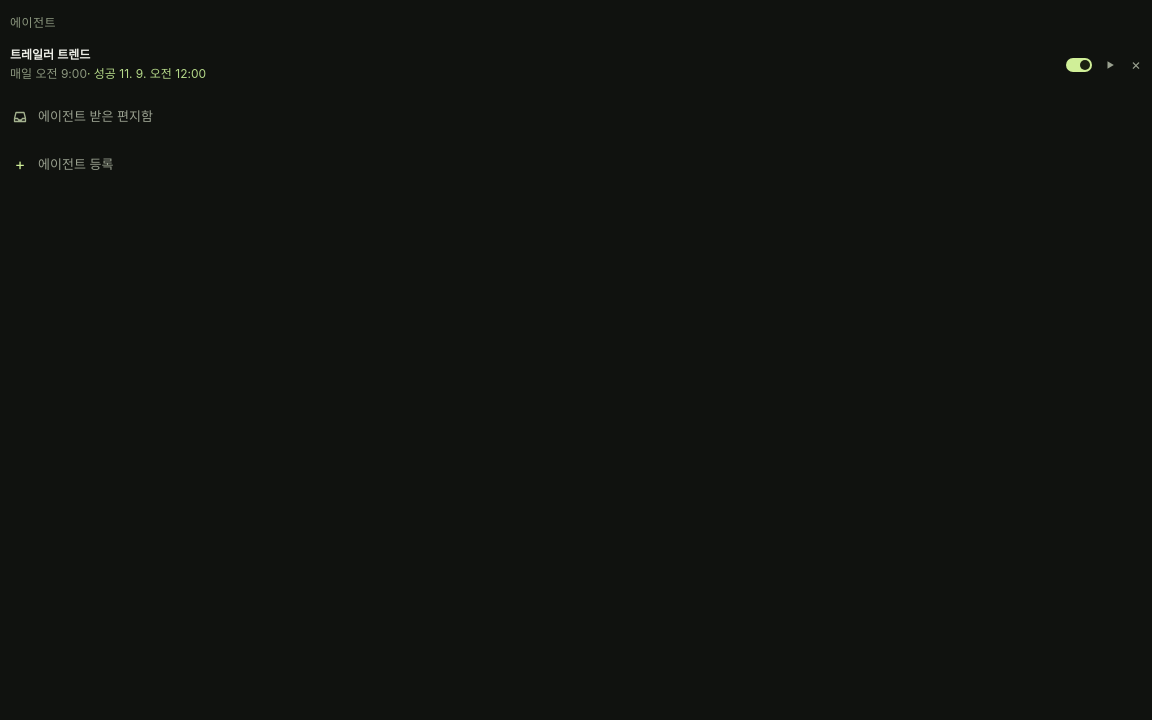
Test: the Agent part of the sidebar › deletes a custom agent after a confirm
Click the button "×".
click(1136, 64)  # box [1124,52,1148,76]
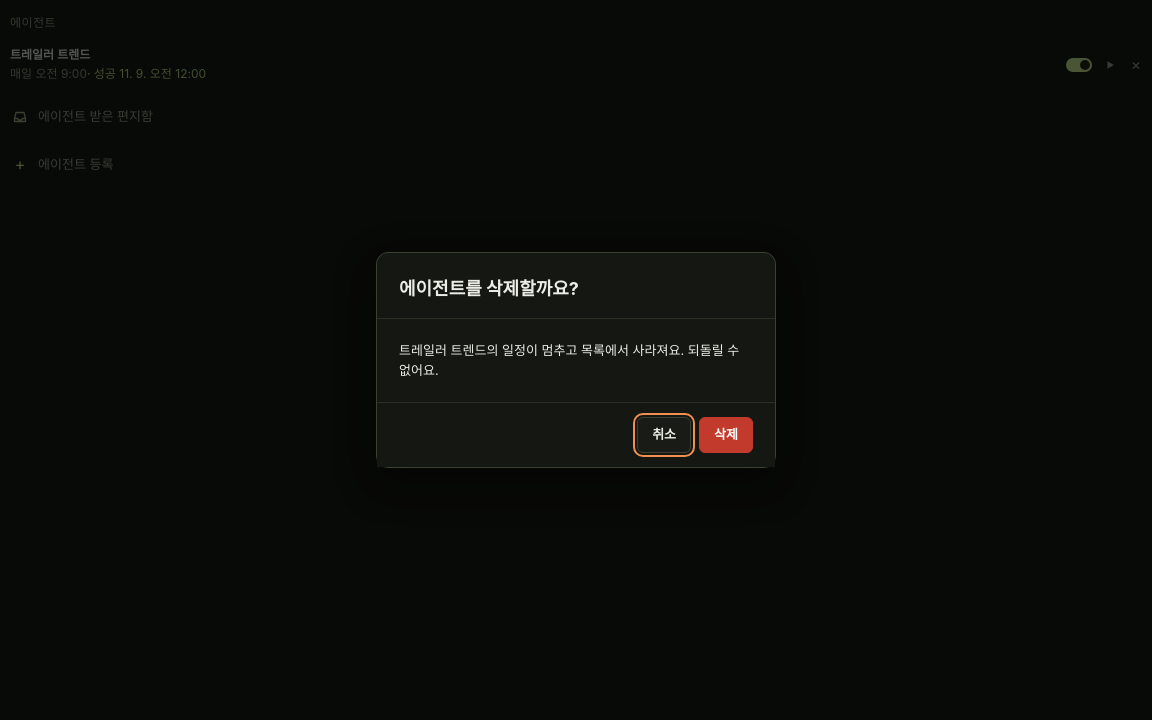
Expected: the dialog shows "에이전트를 삭제할까요?", [399,278,579,299]
Click the button "삭제".
click(726, 435)  # box [699,417,753,453]
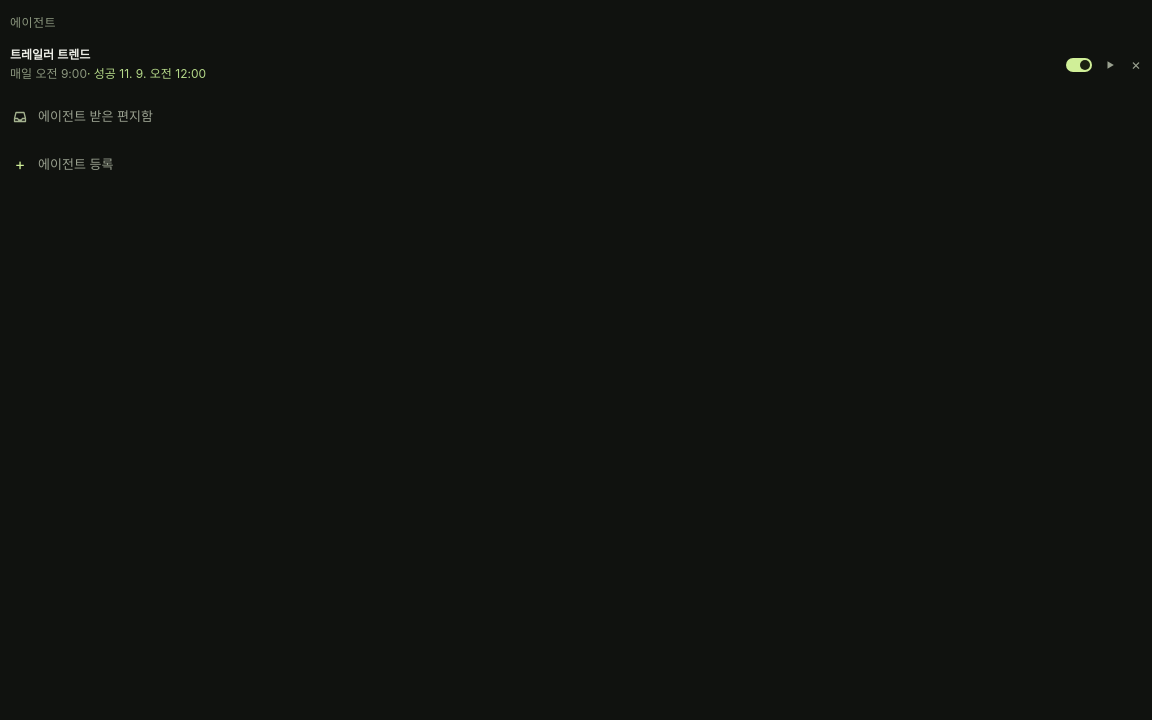
Expected: the dialog is gone
